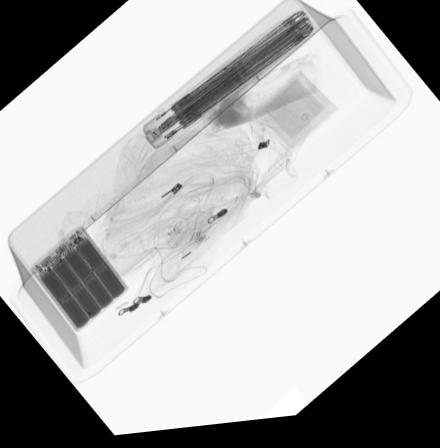Powerbank: (31, 228, 128, 335)
